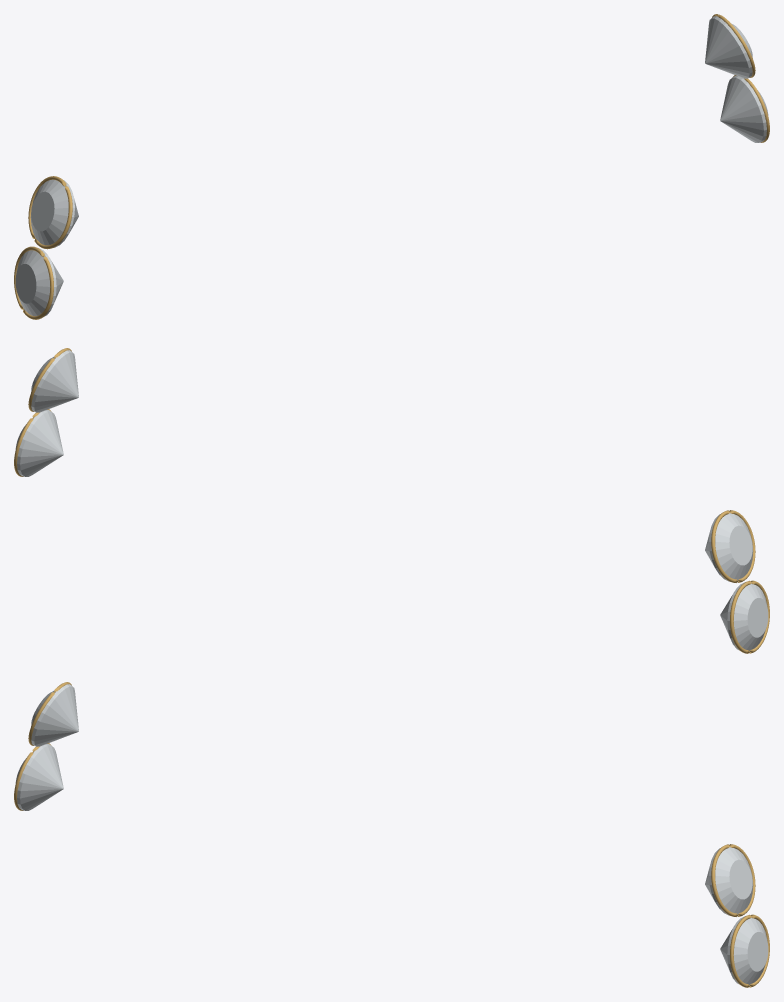
Rendered from accents-flush-accents-multi.glb.
3 renders of one model, top to bottom at view 1: azimuth 30°, elevation 25°; view 2: azimuth 150°, elevation 25°; view 3: azimuth 330°, elevation 25°, orthographic.
Parts seen in each view (by area): view 1: Gem, Gem.001, Gem.003, Gem.002, Burnished rim, Burnished rim.001; view 2: Gem, Gem.003, Gem.001, Gem.002, Burnished rim, Burnished rim.001; view 3: Gem.002, Gem.001, Gem.003, Gem, Burnished rim.002, Burnished rim.003.
Part boxes in pixels (bbox=[...]): Gem: bbox=[30, 179, 78, 247]; Gem.001: bbox=[15, 248, 63, 316]; Gem.003: bbox=[720, 76, 768, 142]; Gem.002: bbox=[705, 16, 752, 78]; Burnished rim: bbox=[28, 176, 72, 249]; Burnished rim.001: bbox=[14, 246, 53, 319]; Gem: bbox=[705, 513, 753, 581]; Gem.003: bbox=[15, 410, 63, 476]; Gem.001: bbox=[720, 582, 768, 650]; Gem.002: bbox=[31, 350, 78, 412]; Burnished rim: bbox=[711, 510, 755, 582]; Burnished rim.001: bbox=[730, 580, 769, 653]; Gem.002: bbox=[705, 847, 753, 915]; Gem.001: bbox=[15, 744, 63, 810]; Gem.003: bbox=[720, 916, 768, 984]; Gem: bbox=[31, 684, 78, 746]; Burnished rim.002: bbox=[711, 844, 755, 916]; Burnished rim.003: bbox=[730, 914, 769, 987].
Size of the model in its own units: 19.57 by 3.32 by 1.69.
